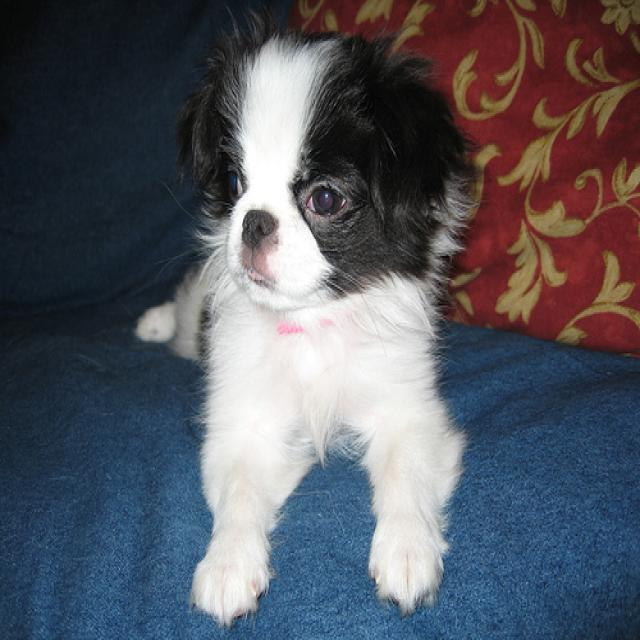dog-japanese_chin: (124, 5, 481, 637)
